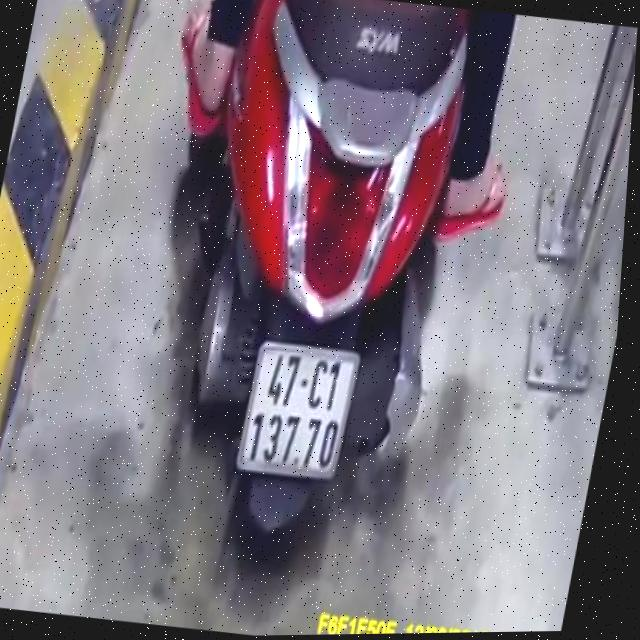motorcycle: (117, 0, 522, 582)
plate: (228, 334, 363, 484)
